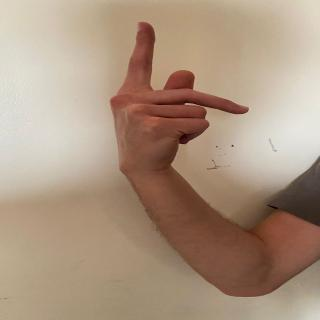DHAA: (98, 15, 252, 146)
